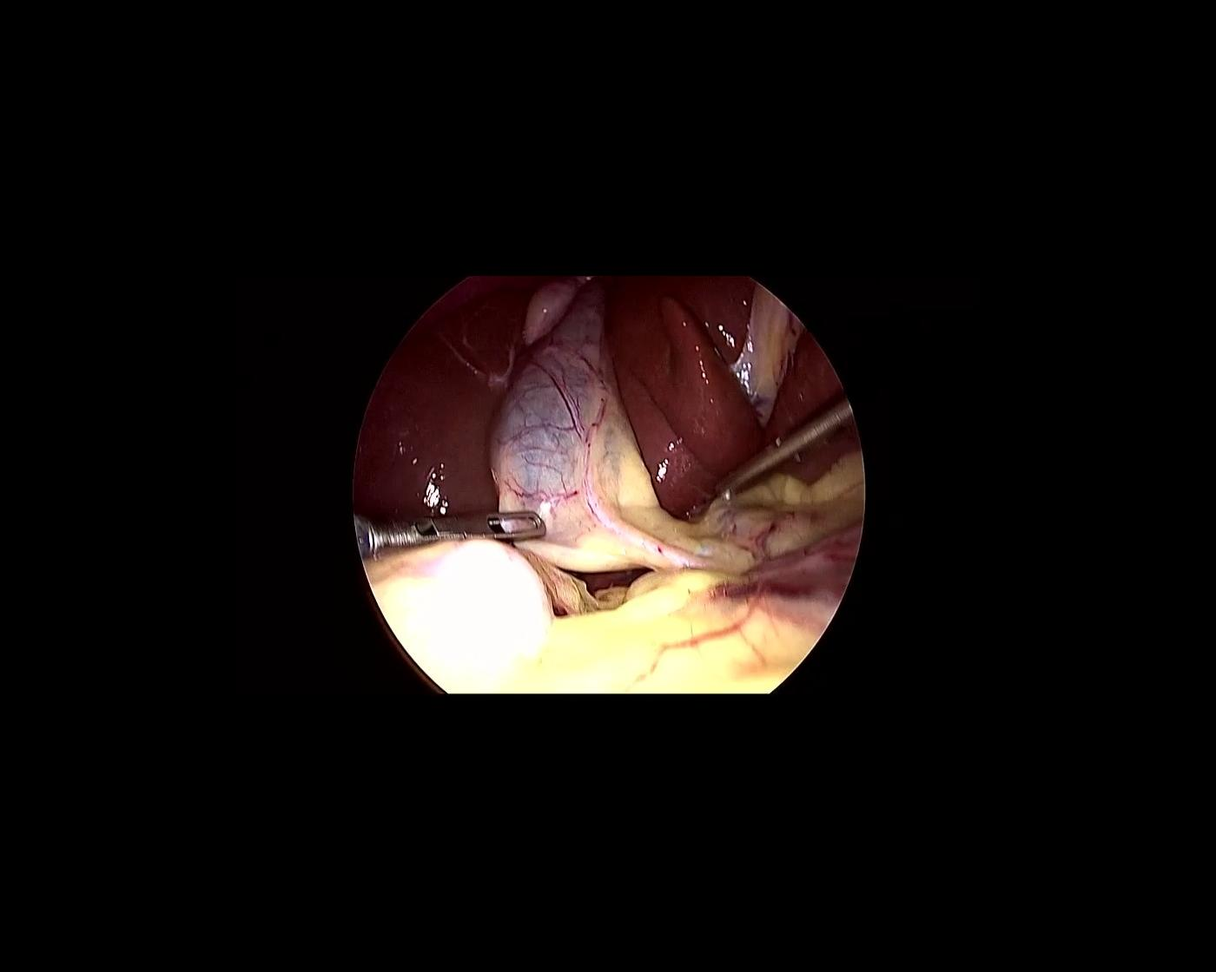Forceps: (707, 391, 855, 503), (356, 495, 554, 558)
Gallbladder: (442, 271, 671, 583)
Liver: (592, 231, 865, 527), (354, 269, 533, 537)
